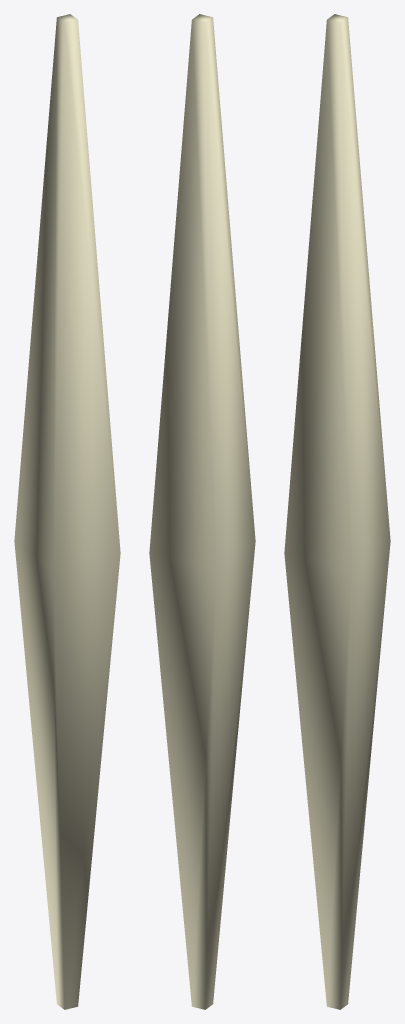
File: Arrow.fbx
The picture shows the model from 3 angles, left to right: view 1: azimuth 30°, elevation 25°; view 2: azimuth 150°, elevation 25°; view 3: azimuth 330°, elevation 25°; orthographic projection.
Visible parts, largest first — view 1: Arrow; view 2: Arrow; view 3: Arrow.
Part boxes in pixels (x1,y1,x2,y2): Arrow: [14, 14, 120, 1009]; Arrow: [149, 14, 255, 1009]; Arrow: [284, 14, 390, 1009].
Bounding box in the file's own units: 2 × 28 × 2.
